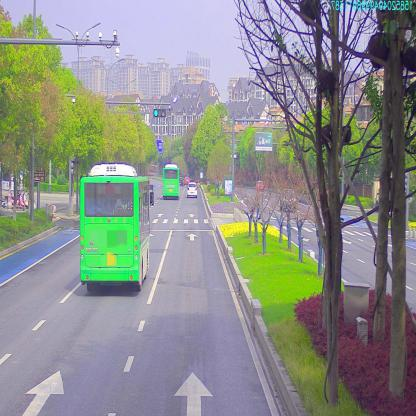traffic-light: (154, 108, 168, 117)
